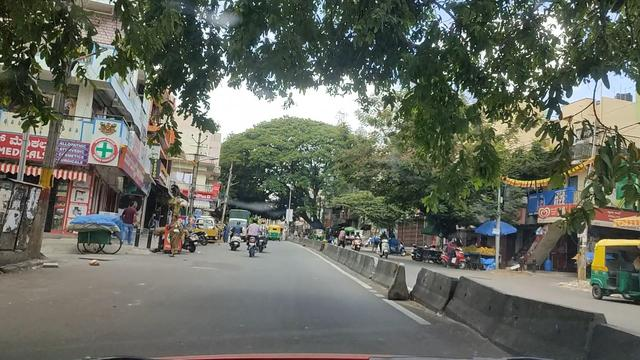RoadDamages: (108, 273, 163, 334)
